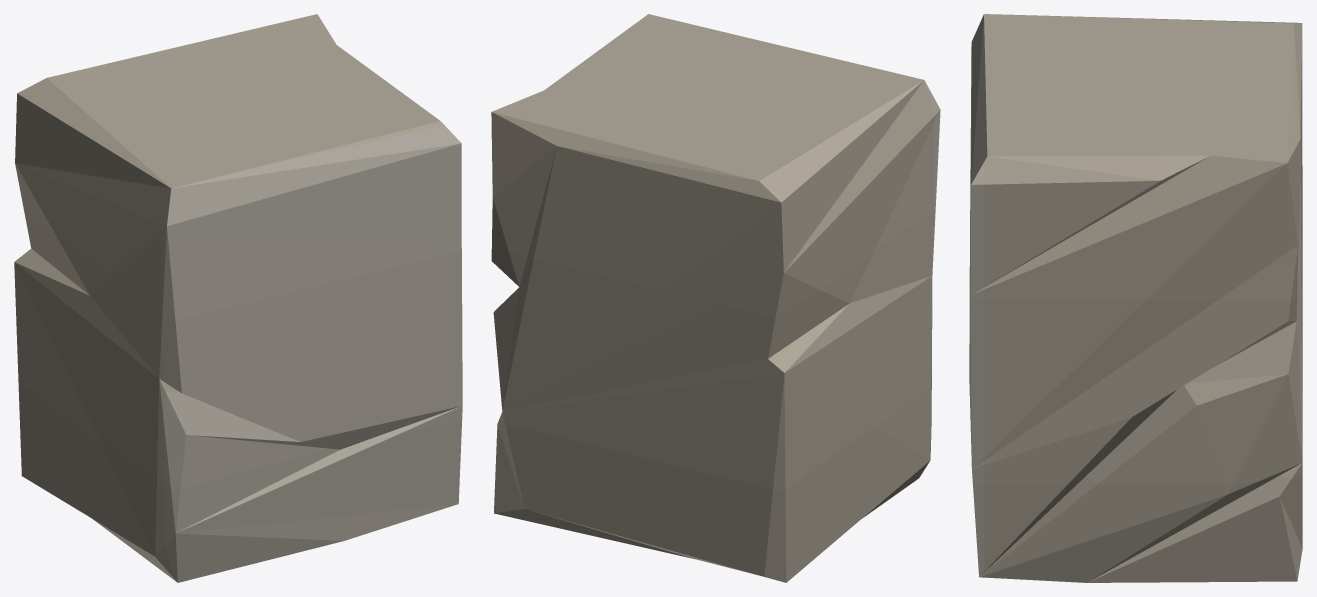
The model's file is YN_Pillar7.fbx.
3 views of the same model, side by side, from view 1: azimuth 30°, elevation 25°; view 2: azimuth 150°, elevation 25°; view 3: azimuth 270°, elevation 25° (orthographic). The views are drawn at different scales.
Parts seen in each view (by area): view 1: Pillar7; view 2: Pillar7; view 3: Pillar7.
Boxes of the visible parts, x1,y1,x2,y2 form: Pillar7: (14, 14, 462, 582); Pillar7: (491, 14, 940, 582); Pillar7: (969, 14, 1302, 582).
Bounding box in the file's own units: 1.32 × 1.68 × 1.19.
